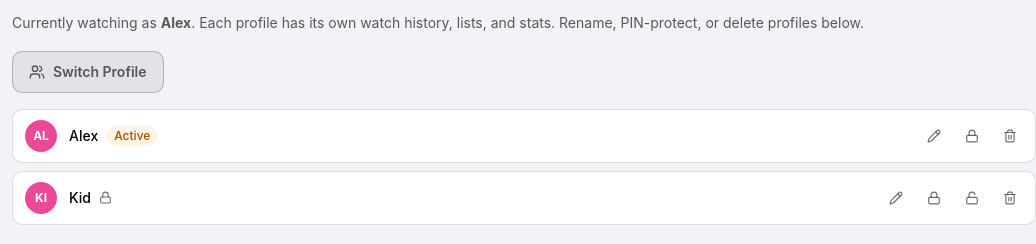
Test: ProfileSettings renaming › keeps the form up when the rename is refused
Click the button named "Rename Alex": (934, 136) [921,123,947,149]
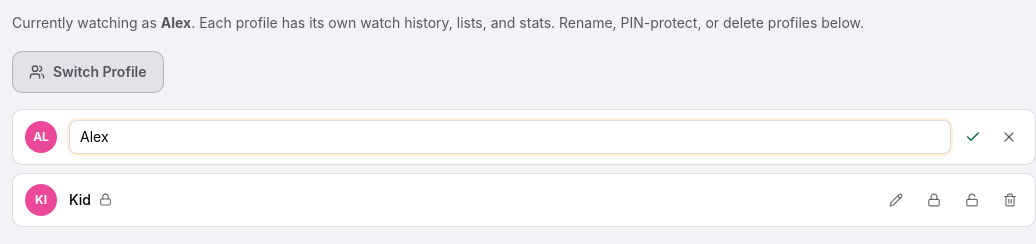
In the field named "Rename Alex": (510, 137) [69,120,951,154], type "!"
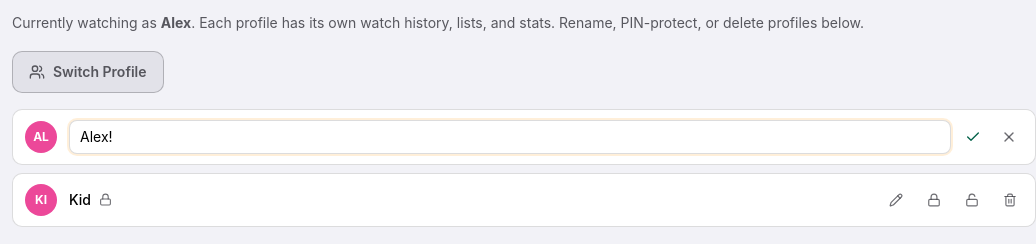
Click the button named "Save name": (973, 137) [959,123,987,151]
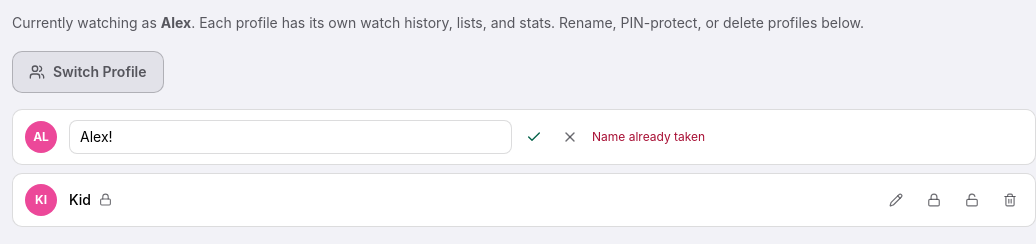
Expected: the field named "Rename Alex" holds "Alex!", [69,120,512,154]
Expected: the text "Name already taken" is shown, [592,129,705,144]
